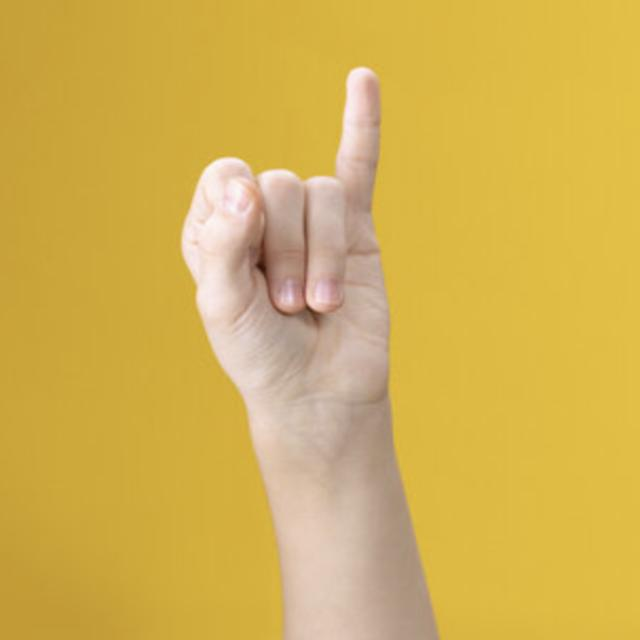pinky: (329, 59, 400, 222)
